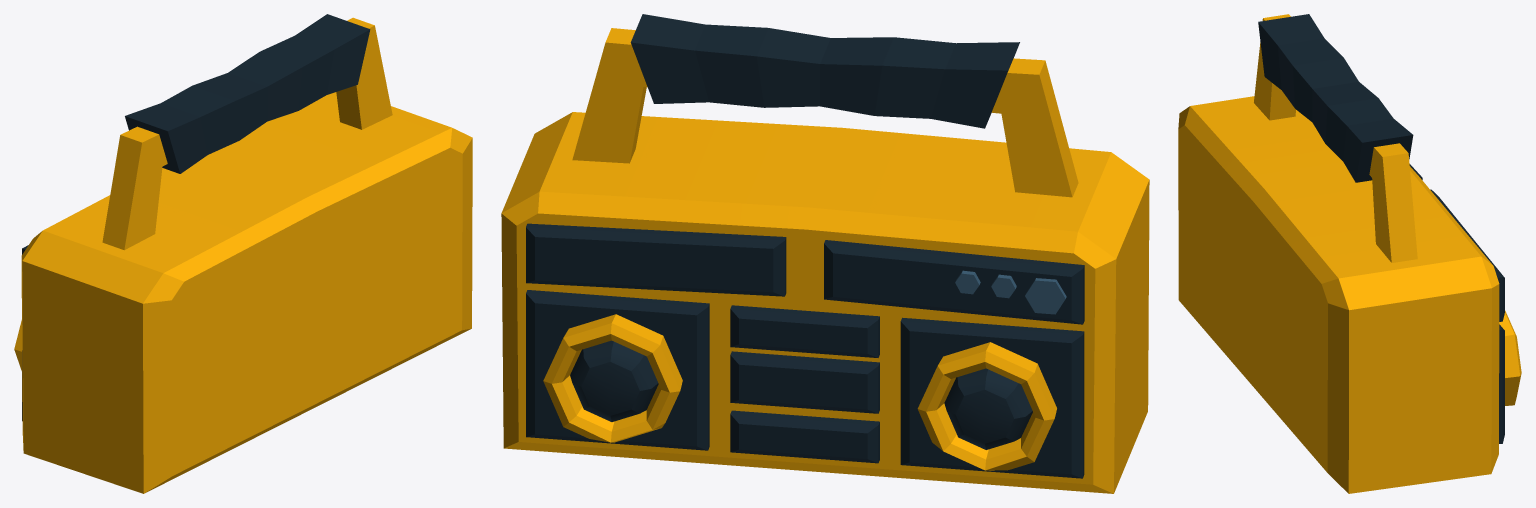
The model's file is sceneradio.gltf.
3 views of the same model, side by side, from view 1: azimuth 30°, elevation 25°; view 2: azimuth 150°, elevation 25°; view 3: azimuth 270°, elevation 25° (orthographic). The views are drawn at different scales.
Parts seen in each view (by area): view 1: Object_4, Object_5; view 2: Object_4, Object_6, Object_5, Object_2, Object_3, Object_7; view 3: Object_4, Object_5, Object_6, Object_2.
Boxes of the visible parts, left/top/right/bottom form: Object_4: left=21, top=17, right=472, bottom=493; Object_5: left=125, top=14, right=370, bottom=173; Object_4: left=501, top=28, right=1149, bottom=493; Object_6: left=526, top=223, right=1084, bottom=478; Object_5: left=630, top=14, right=1019, bottom=128; Object_2: left=543, top=314, right=1056, bottom=470; Object_3: left=570, top=340, right=1032, bottom=449; Object_7: left=955, top=270, right=1066, bottom=314; Object_4: left=1178, top=14, right=1499, bottom=493; Object_5: left=1258, top=14, right=1413, bottom=182; Object_6: left=1409, top=164, right=1504, bottom=443; Object_2: left=1499, top=310, right=1521, bottom=405.
Size of the model in its own units: 12.14 by 7.99 by 8.05.
